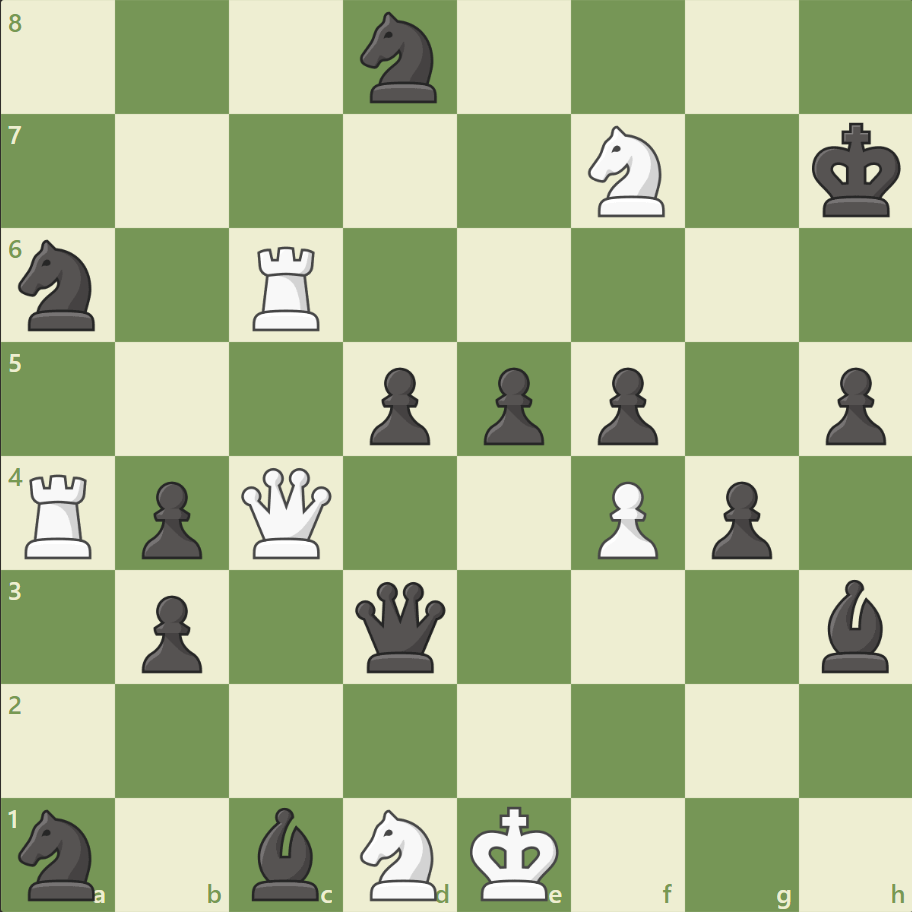K: (465, 798, 565, 906)
N: (351, 802, 449, 904), (579, 121, 676, 223)
P: (588, 473, 662, 564)
Q: (237, 463, 336, 562)
R: (246, 239, 329, 336), (19, 466, 102, 563)
b: (244, 801, 328, 904), (812, 574, 896, 676)
k: (806, 117, 906, 225)
n: (351, 7, 449, 110), (11, 234, 108, 337), (11, 802, 108, 904)
p: (474, 359, 549, 450), (133, 473, 208, 564), (701, 473, 776, 564), (133, 586, 208, 677), (361, 359, 435, 450), (588, 359, 662, 450), (815, 359, 889, 450)
q: (351, 576, 450, 676)
